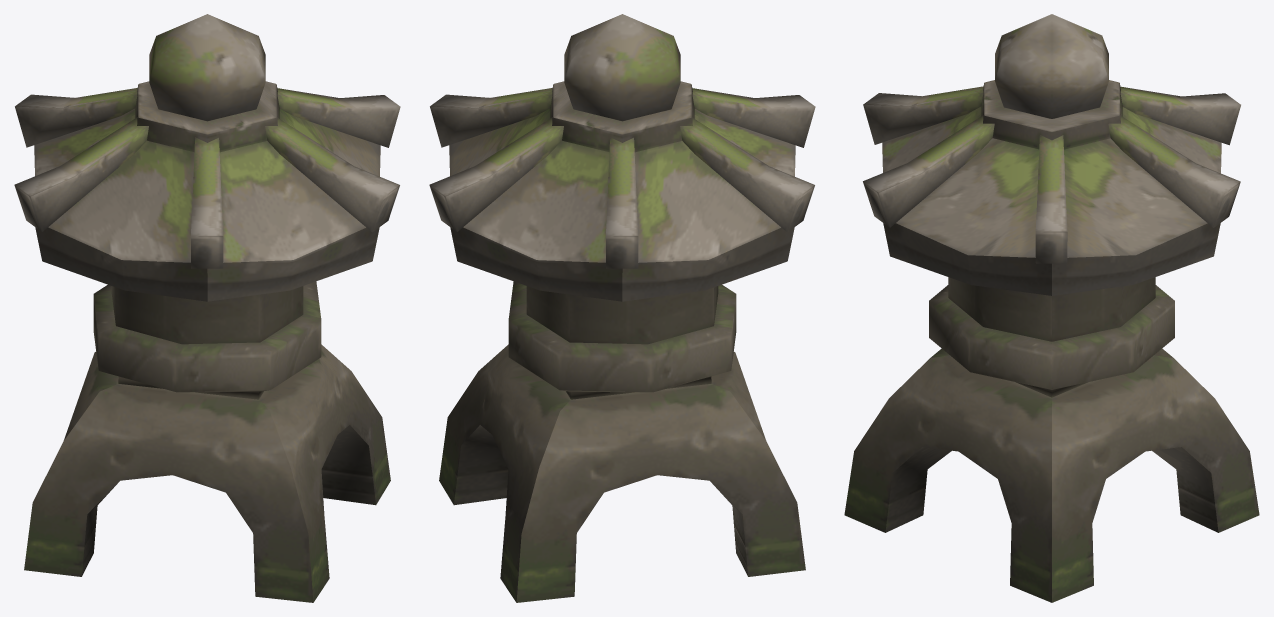
The model's file is shrine_wj001_13.FBX.
The picture shows the model from 3 angles, left to right: view 1: azimuth 30°, elevation 25°; view 2: azimuth 150°, elevation 25°; view 3: azimuth 270°, elevation 25°; orthographic projection. The views are drawn at different scales.
Visible parts, largest first — view 1: shrine_wj001_13; view 2: shrine_wj001_13; view 3: shrine_wj001_13.
Boxes of the visible parts, box(x1,y1,x2,y2) form: shrine_wj001_13: box(14, 14, 400, 602); shrine_wj001_13: box(429, 14, 815, 602); shrine_wj001_13: box(844, 14, 1259, 602).
Bounding box in the file's own units: 70.9 × 93.75 × 70.37.
1 material, 1 textured.
